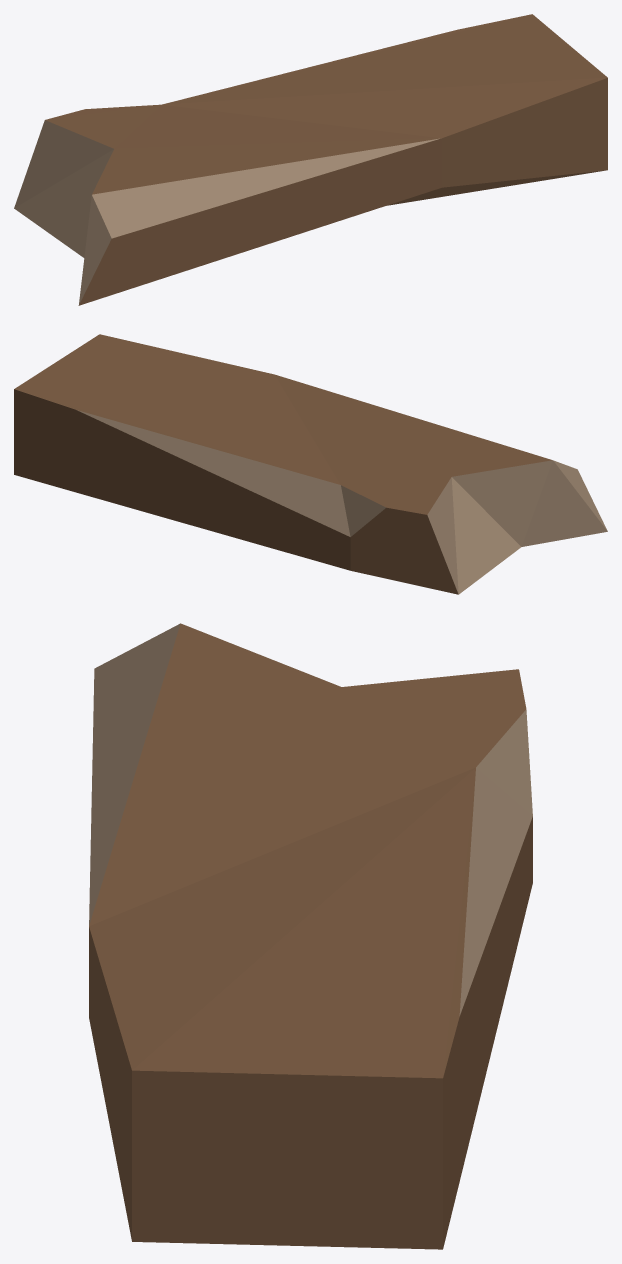
Rendered from Railing_C_04.FBX.
The picture shows the model from 3 angles, top to bottom: view 1: azimuth 30°, elevation 25°; view 2: azimuth 150°, elevation 25°; view 3: azimuth 270°, elevation 25°; orthographic projection. The views are drawn at different scales.
Parts seen in each view (by area): view 1: Railing_C_04; view 2: Railing_C_04; view 3: Railing_C_04.
Part boxes in pixels (x1,y1,x2,y2): Railing_C_04: [14, 14, 607, 305]; Railing_C_04: [14, 334, 607, 594]; Railing_C_04: [89, 623, 532, 1249].
Bounding box in the file's own units: 0.9948 × 0.1606 × 0.3772.
